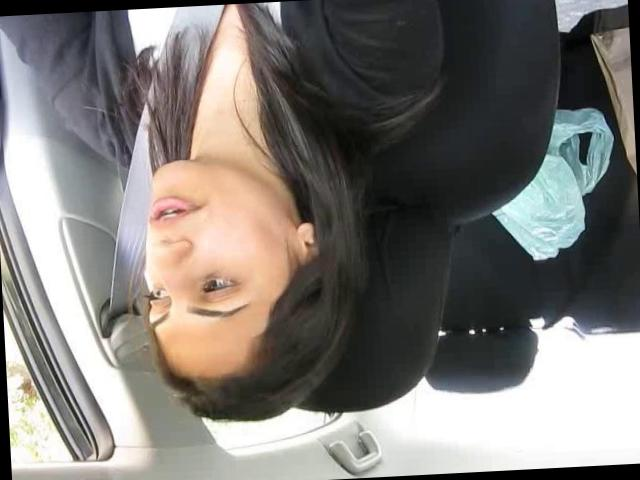eye_open: (194, 269, 245, 302), (146, 284, 171, 309)
face: (130, 154, 290, 346)
